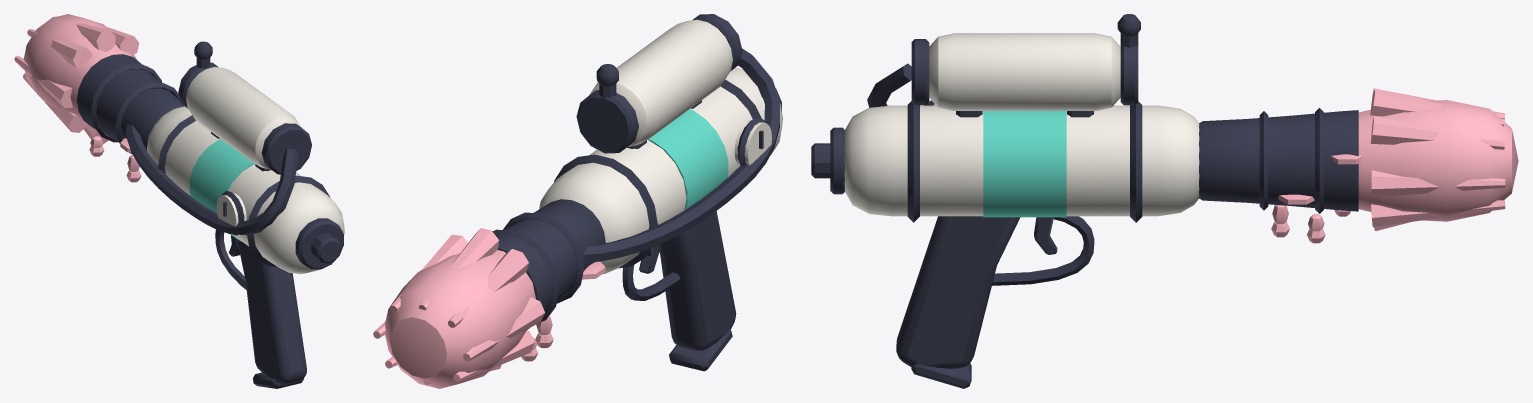
File: paint_blaster_prop.glb
The picture shows the model from 3 angles, left to right: view 1: azimuth 30°, elevation 25°; view 2: azimuth 150°, elevation 25°; view 3: azimuth 270°, elevation 25°; orthographic projection. The views are drawn at different scales.
Parts seen in each view (by area): view 1: BlasterMesh; view 2: BlasterMesh; view 3: BlasterMesh.
Part boxes in pixels (x1=…): BlasterMesh: x1=14, y1=14, x2=344, y2=388; BlasterMesh: x1=373, y1=14, x2=782, y2=388; BlasterMesh: x1=811, y1=14, x2=1518, y2=388.
Bounding box in the file's own units: 0.1314 × 0.3639 × 0.636.
